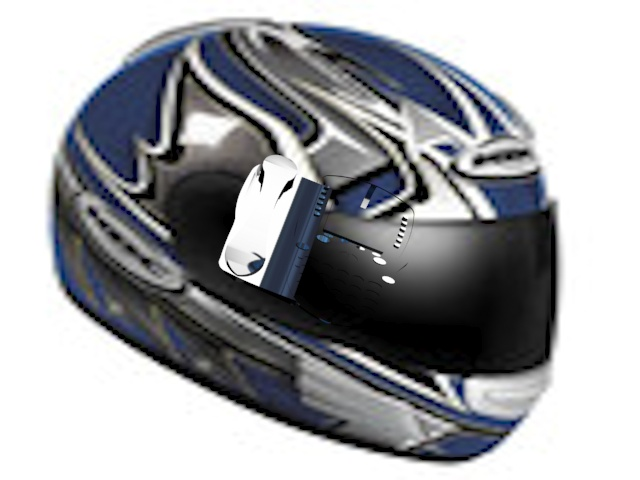phone: (217, 153, 416, 336)
